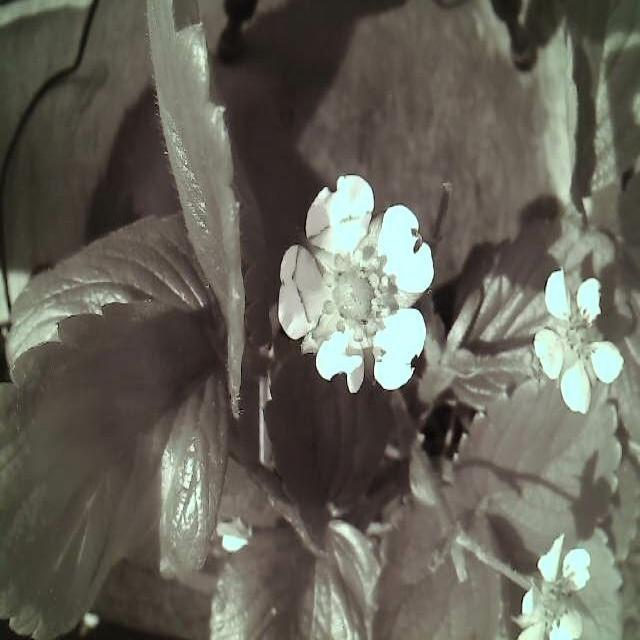flower: (276, 171, 442, 395), (534, 262, 626, 414), (512, 532, 604, 640)
